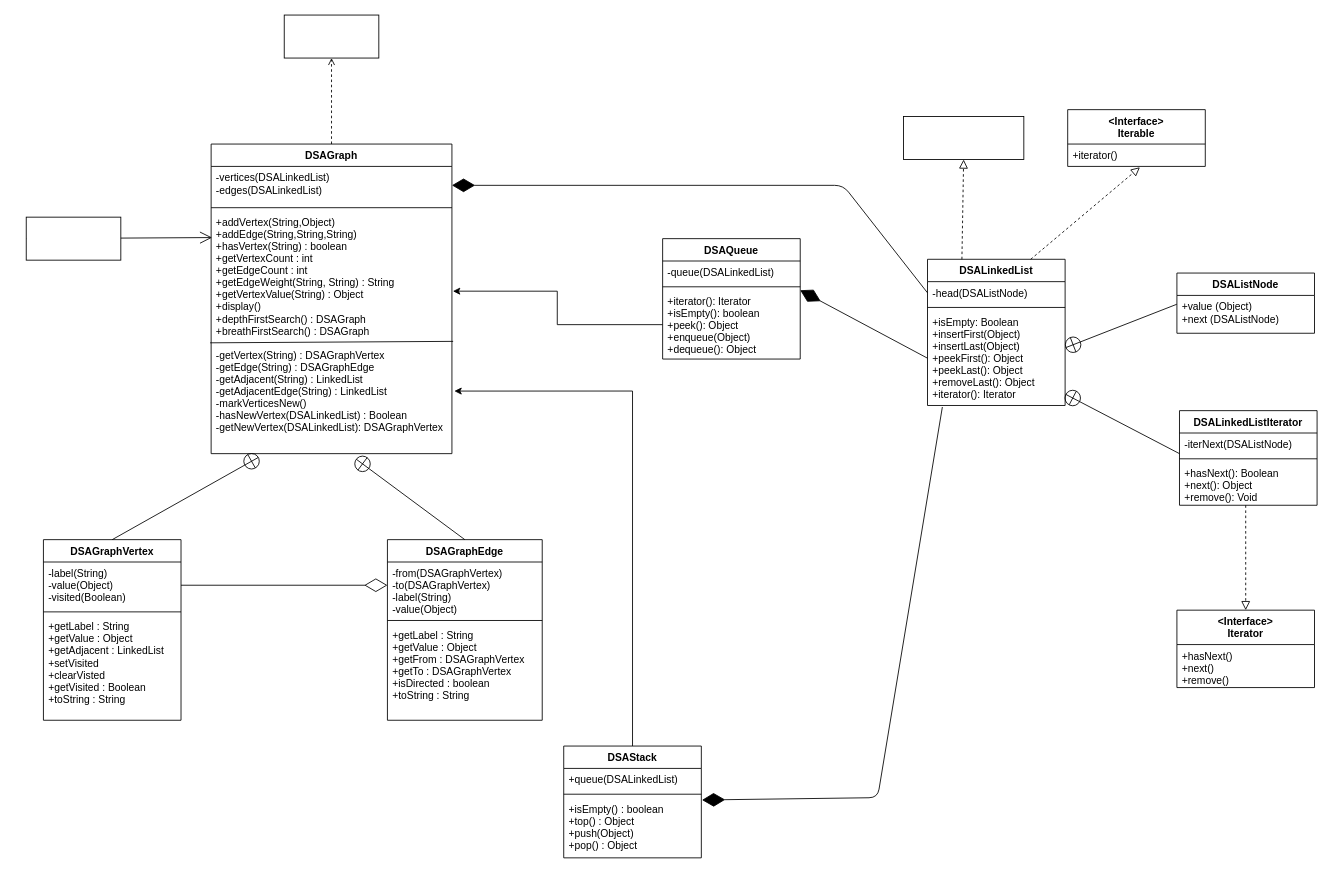
The diagram is 1332 pixels wide and 875 high, and some of its shapes have lost their labels. Here are the shapes that lost their labels. From the top down, the centre of each, then its label:
pixel 331 36: «interface» Serializable
pixel 963 138: <Interface> Serializable
pixel 73 238: UnitTestDSAGraph
